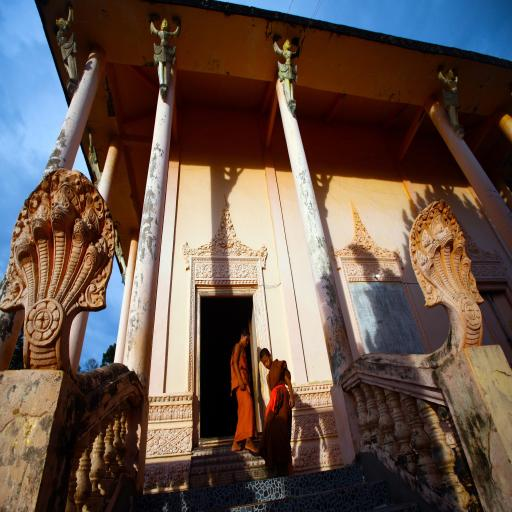ran: (2, 178, 115, 366), (413, 206, 488, 348)
than: (277, 33, 307, 118), (153, 10, 181, 95), (54, 10, 82, 90), (441, 64, 470, 133)
